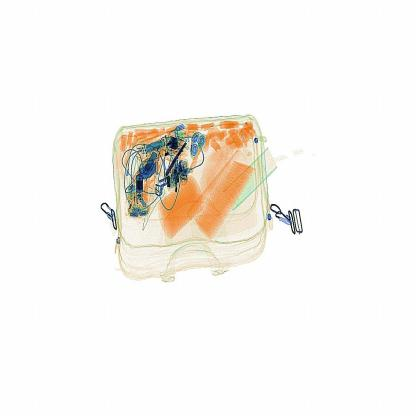knife: (161, 135, 193, 181)
